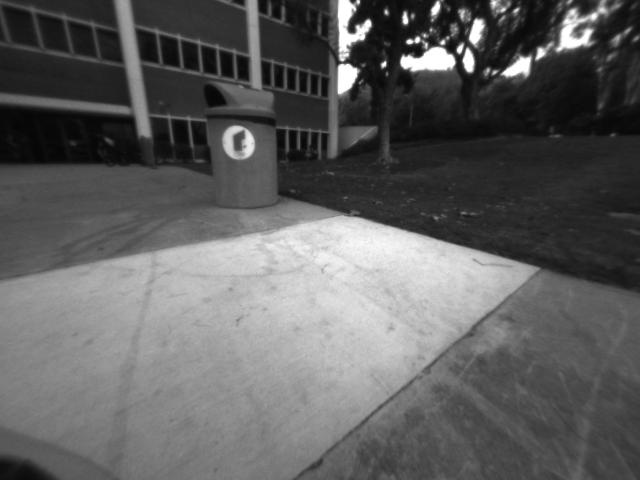trashcan: (200, 78, 284, 212)
